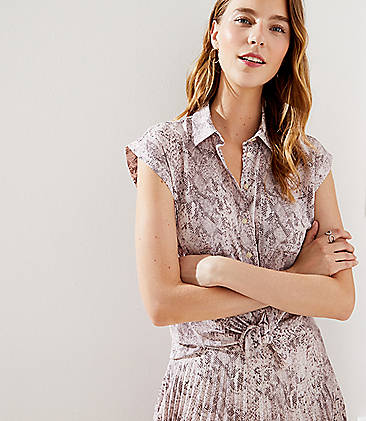C_short blouse: (126, 102, 332, 346)
